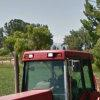Tractor: (7, 41, 100, 100)
